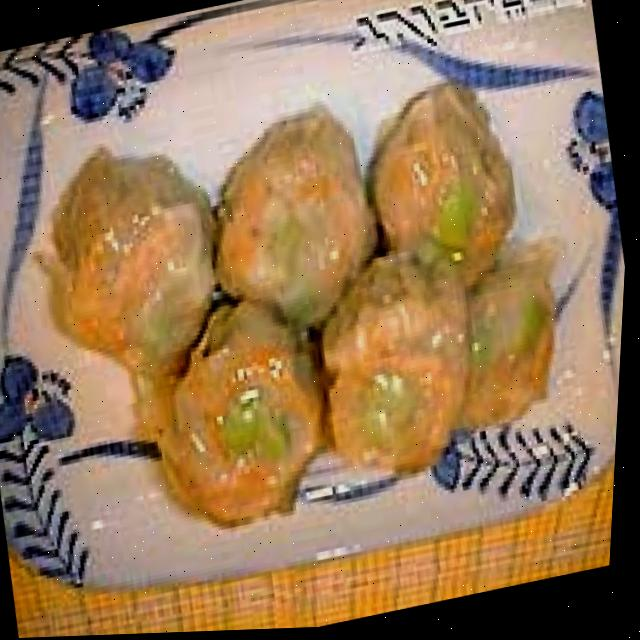带馅早点: (52, 77, 588, 567)
